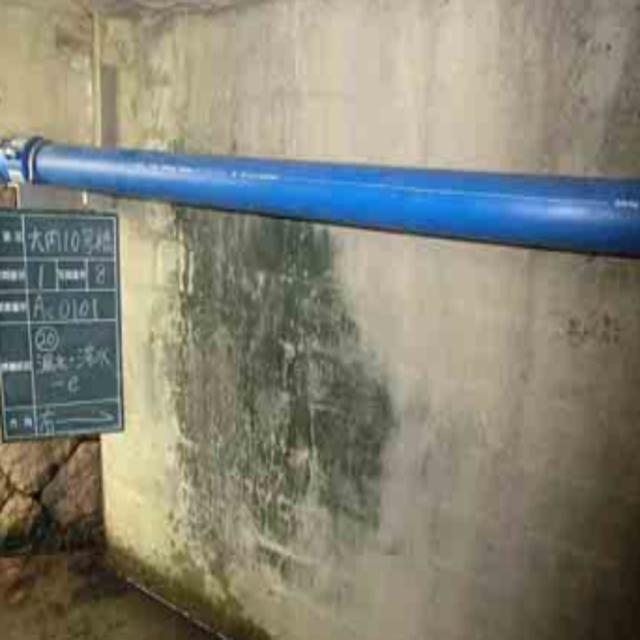leakage: (163, 207, 394, 640)
